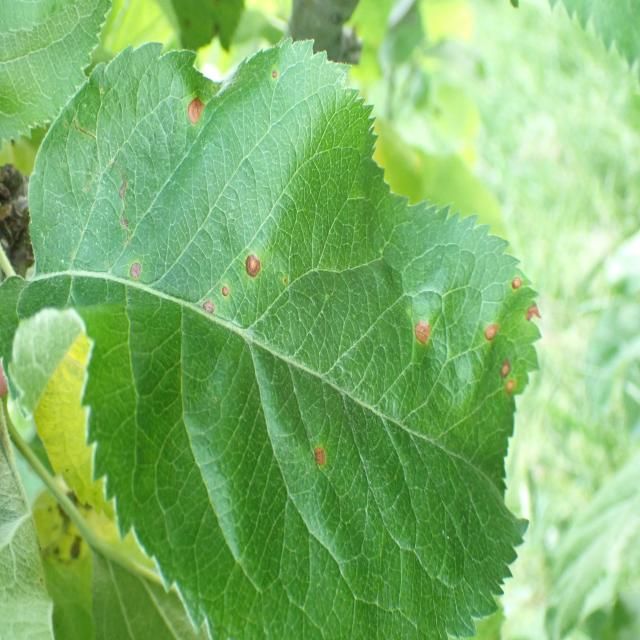Black Rot: (182, 89, 218, 132), (242, 245, 271, 298), (400, 312, 439, 350), (309, 434, 333, 486), (197, 280, 220, 331), (219, 268, 238, 324), (258, 65, 294, 93), (523, 298, 548, 338), (121, 255, 148, 287), (508, 253, 525, 302), (474, 319, 501, 348), (500, 373, 521, 410), (494, 351, 518, 381)
